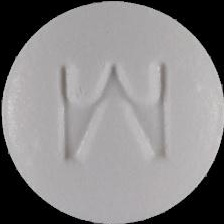0378-3567: (0, 0, 224, 224)
